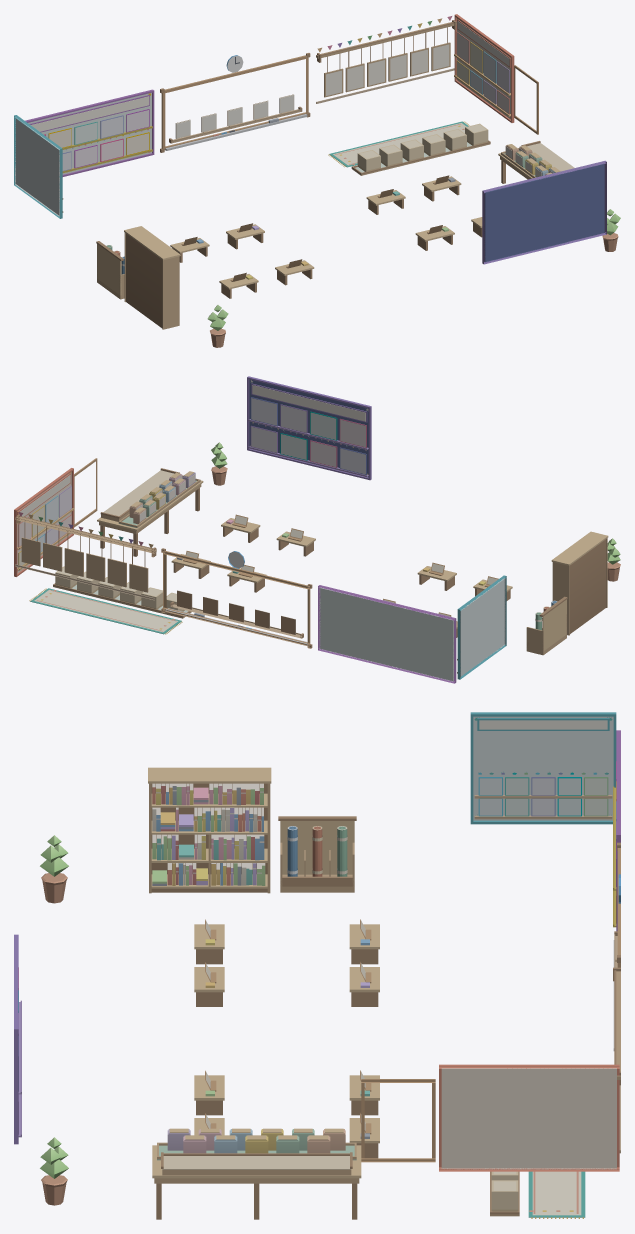
Rendered from pi_interior_props.glb.
3 renders of one model, top to bottom at view 1: azimuth 30°, elevation 25°; view 2: azimuth 150°, elevation 25°; view 3: azimuth 270°, elevation 25°, orthographic. The views are drawn at different scales.
Visible parts, largest first — view 1: lalu_doa_papan, rak_buku, lalu_asma_papan, lalu_wuduk_papan, lalu_bingkai_papan, lalu_hadis_papan, lalu_sirah_alas, lalu_sirah_rel, rak_sejadah, meja_blok_rukun, lalu_jawi_dulang, pasu_2 (+14 smaller); view 2: lalu_asma_papan, lalu_doa_papan, rak_buku, lalu_wuduk_papan, lalu_sirah_alas, meja_blok_rukun, lalu_bingkai_papan, lalu_hadis_papan, rak_sejadah, lalu_sirah_rel, lalu_doa_1, lalu_doa_2 (+20 smaller); view 3: lalu_hadis_papan, rak_buku, lalu_wuduk_papan, meja_blok_rukun, rak_sejadah, lalu_sirah_alas, lalu_bingkai_papan, lalu_doa_papan, pasu_2, pasu_1, meja_rendah_1, meja_rendah_5 (+8 smaller).
Boxes of the visible parts, bbox=[...] form: lalu_doa_papan: bbox=[482, 160, 606, 264]; rak_buku: bbox=[124, 226, 180, 329]; lalu_asma_papan: bbox=[25, 89, 154, 176]; lalu_wuduk_papan: bbox=[14, 115, 63, 218]; lalu_bingkai_papan: bbox=[160, 53, 538, 152]; lalu_hadis_papan: bbox=[454, 14, 514, 122]; lalu_sirah_alas: bbox=[328, 121, 490, 175]; lalu_sirah_rel: bbox=[316, 16, 456, 103]; rak_sejadah: bbox=[96, 241, 124, 299]; meja_blok_rukun: bbox=[498, 141, 574, 183]; lalu_jawi_dulang: bbox=[169, 106, 302, 143]; pasu_2: bbox=[207, 305, 228, 347]; lalu_asma_papan: bbox=[318, 585, 456, 683]; lalu_doa_papan: bbox=[247, 376, 371, 480]; rak_buku: bbox=[551, 531, 608, 635]; lalu_wuduk_papan: bbox=[457, 575, 506, 679]; lalu_sirah_alas: bbox=[29, 583, 191, 634]; meja_blok_rukun: bbox=[97, 468, 203, 556]; lalu_bingkai_papan: bbox=[74, 458, 312, 648]; lalu_hadis_papan: bbox=[14, 468, 74, 576]; rak_sejadah: bbox=[526, 596, 567, 655]; lalu_sirah_rel: bbox=[15, 512, 156, 600]; lalu_doa_1: bbox=[250, 397, 277, 426]; lalu_doa_2: bbox=[280, 404, 307, 433]; lalu_hadis_papan: bbox=[439, 1064, 619, 1171]; rak_buku: bbox=[148, 767, 271, 893]; lalu_wuduk_papan: bbox=[470, 712, 616, 824]; meja_blok_rukun: bbox=[152, 1142, 361, 1219]; rak_sejadah: bbox=[278, 816, 356, 892]; lalu_sirah_alas: bbox=[490, 1171, 585, 1218]; lalu_bingkai_papan: bbox=[361, 842, 620, 1162]; lalu_doa_papan: bbox=[14, 934, 21, 1144]; pasu_2: bbox=[40, 835, 68, 903]; pasu_1: bbox=[40, 1137, 68, 1205]; meja_rendah_1: bbox=[349, 919, 379, 964]; meja_rendah_5: bbox=[194, 919, 224, 964].
Bounding box in the file's own units: 12 × 2.86 × 9.
